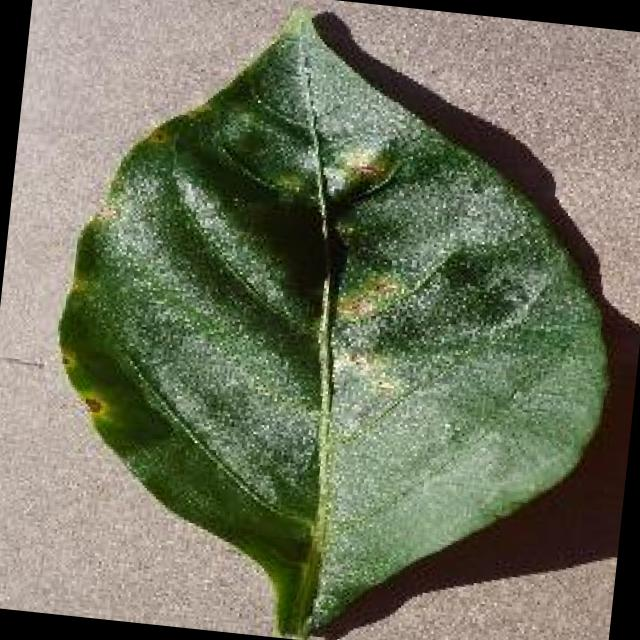Chilli_Bacterial_Spot: (23, 0, 640, 640), (318, 135, 402, 210), (342, 149, 388, 191), (70, 385, 114, 426), (140, 118, 172, 148), (76, 390, 106, 420)
